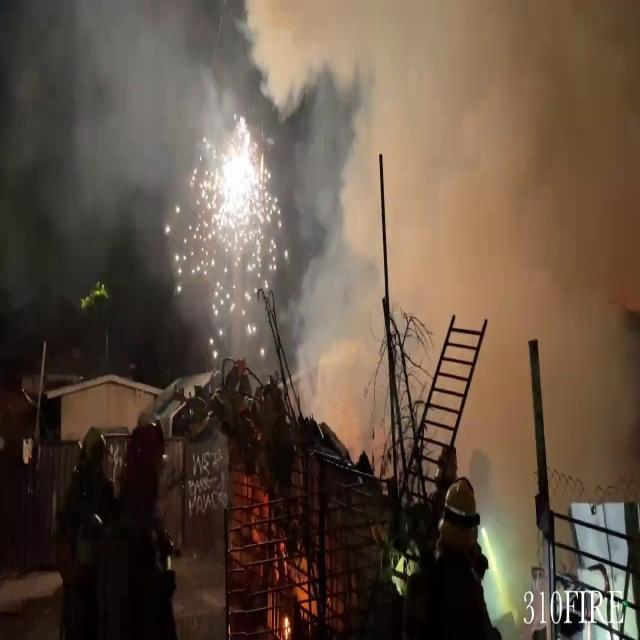Smoke: (0, 0, 634, 471)
